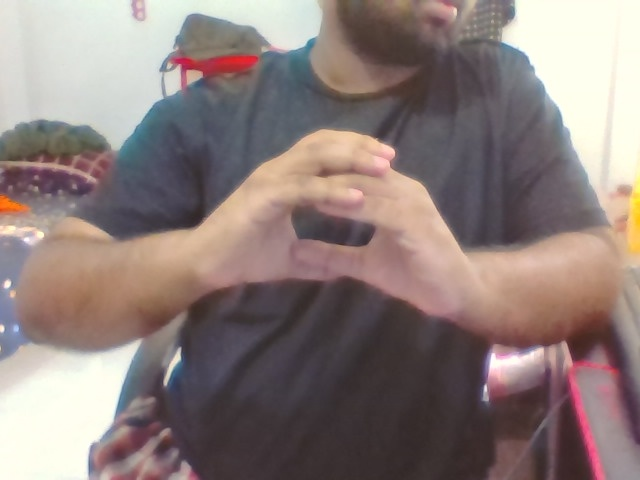O: (237, 118, 456, 332)
